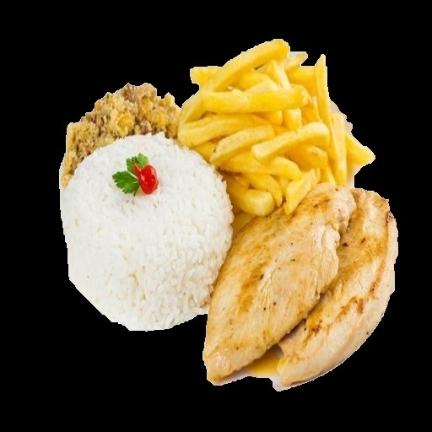chicken: (205, 186, 399, 394)
potato: (174, 40, 376, 219)
rice: (64, 137, 232, 332)
